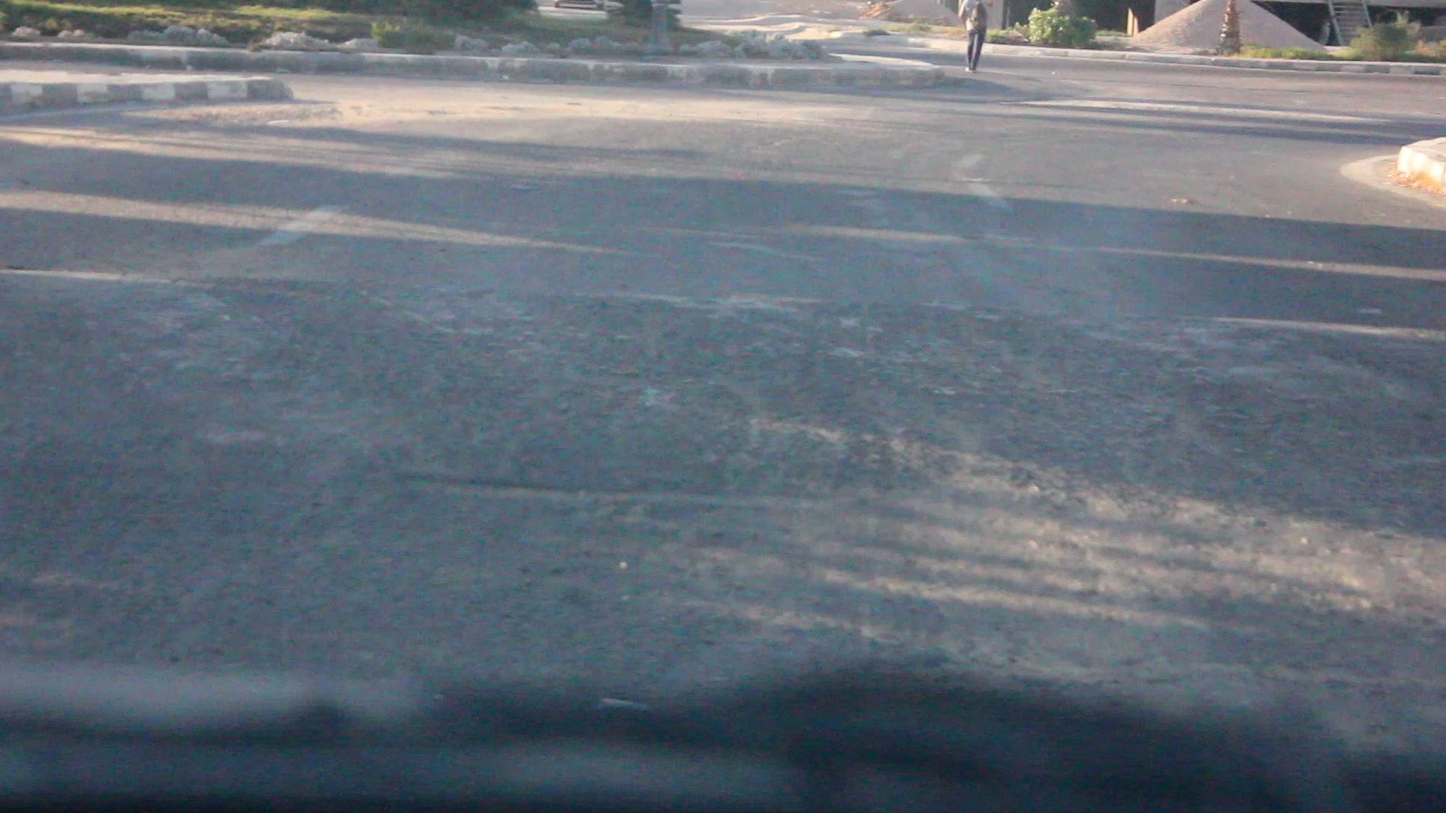Bump: (4, 273, 1446, 544)
